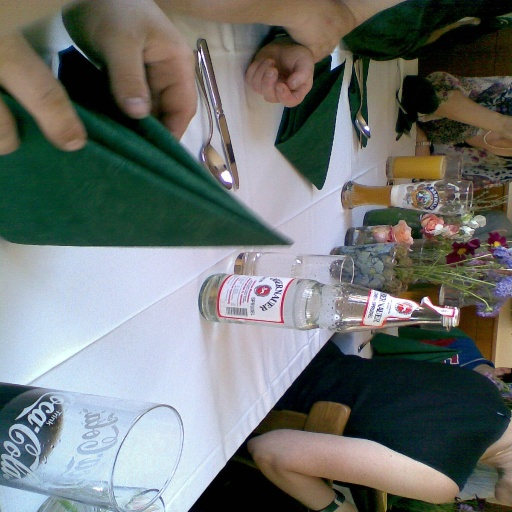hand: (58, 0, 198, 142), (0, 0, 85, 154), (242, 35, 314, 104), (277, 0, 355, 61), (505, 118, 511, 138), (344, 504, 357, 511), (414, 126, 422, 135)
